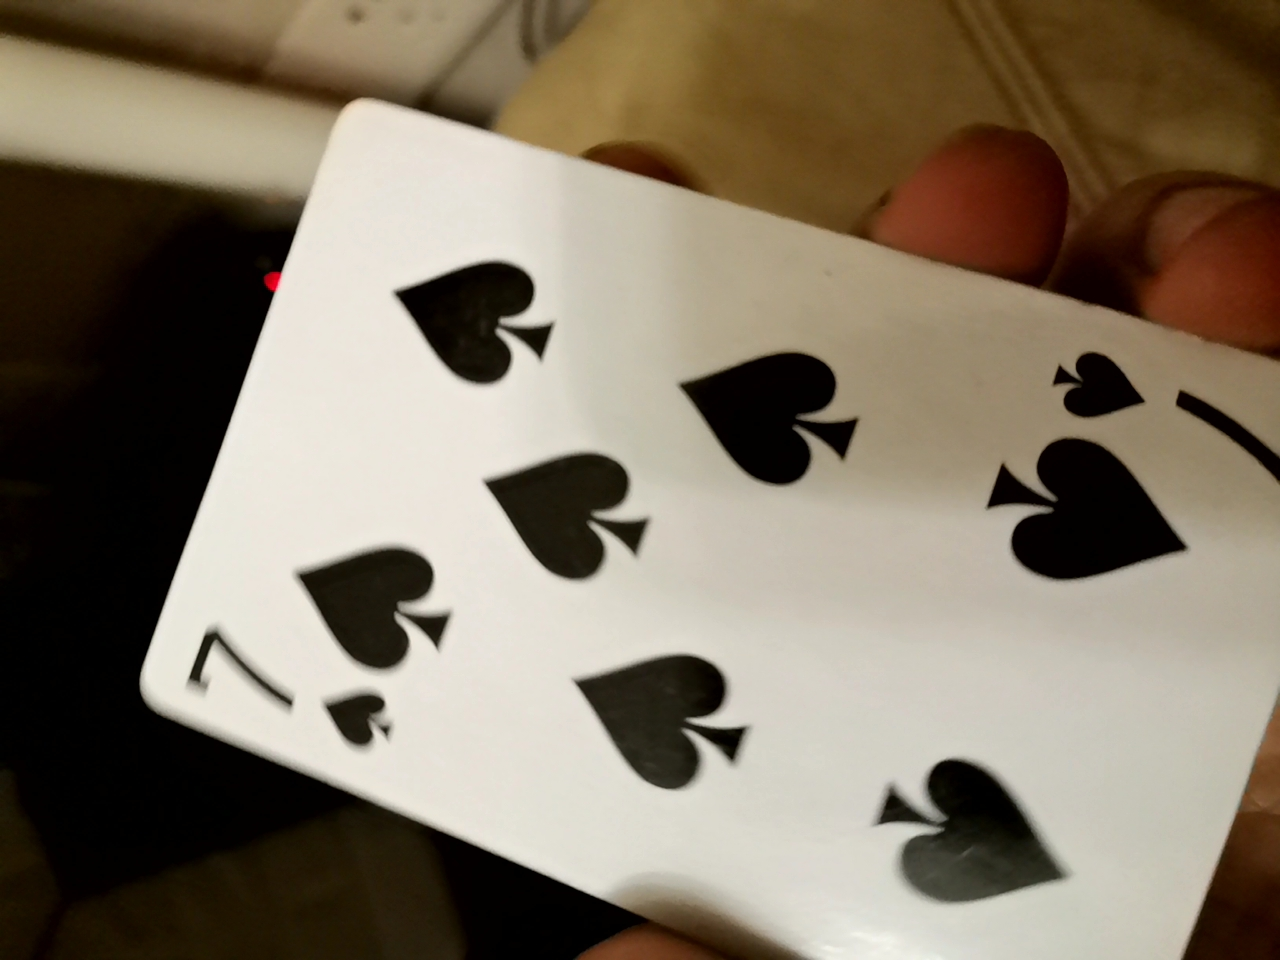ht 7: (101, 125, 1276, 959)
